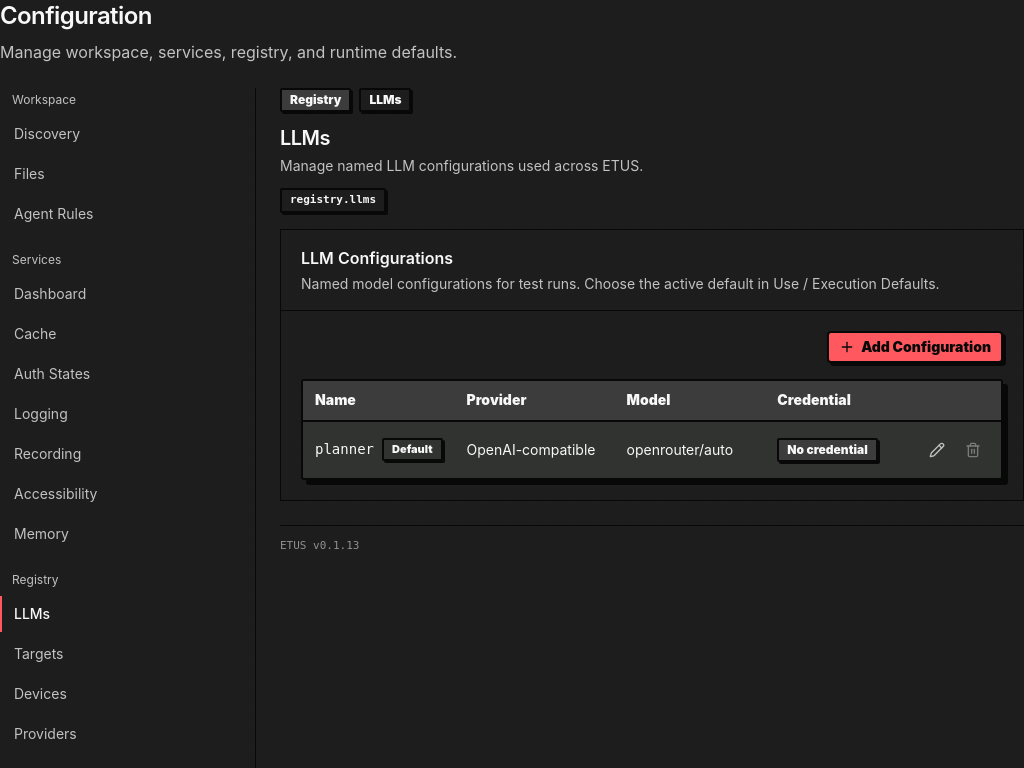
Scenario: ConfigPage schema-driven shell › renders the OpenAI-Compatible modal with free-form model and Base URL tooltip
Click the button titled "Edit configuration" at coordinates (937, 450), box [921, 434, 953, 466]
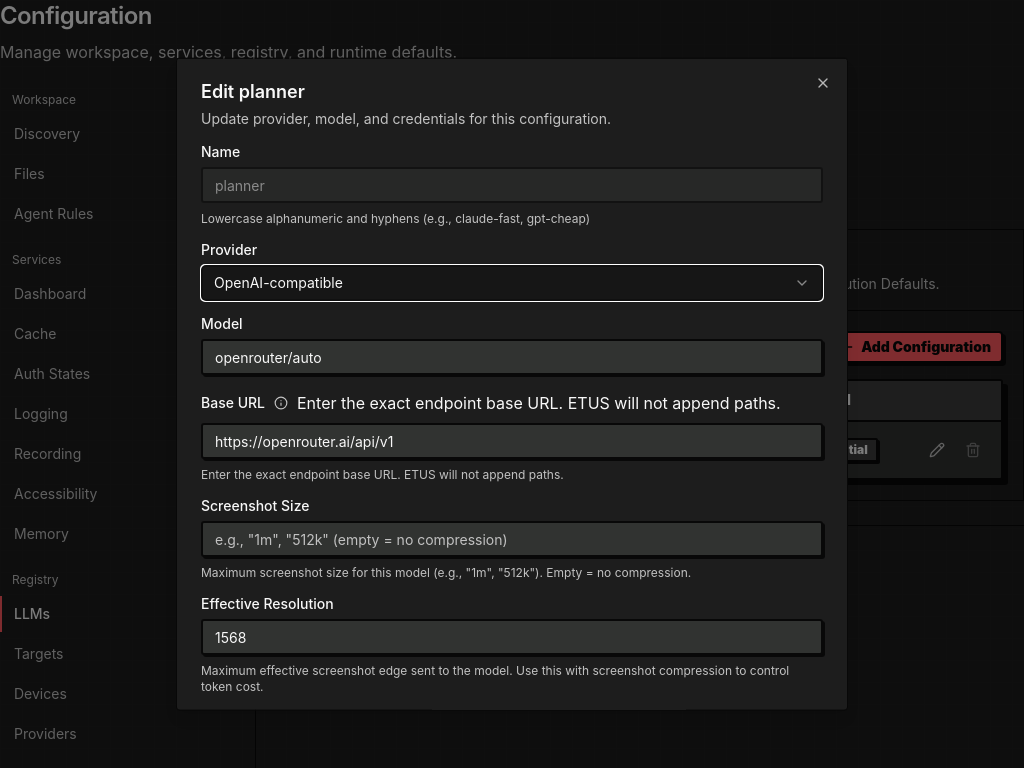
Check: the text "Base URL" is shown, box [201, 396, 265, 410]
Check: the text "Enter the exact endpoint base URL. ETUS will not append paths." is shown, box [297, 393, 781, 413]
Check: the button named "Compatible endpoint help" is shown, box [271, 393, 291, 413]
